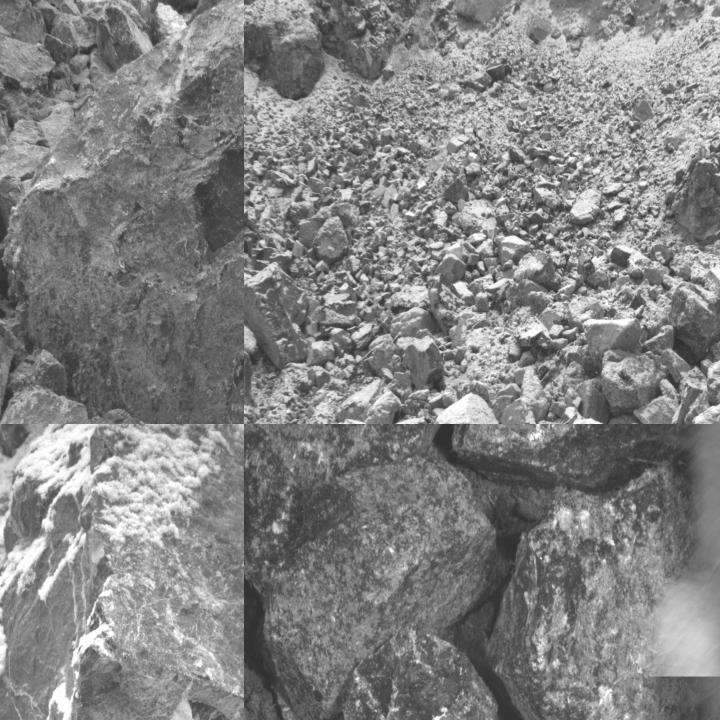stone: (15, 0, 243, 423), (244, 424, 520, 719), (0, 424, 243, 719), (490, 470, 711, 719), (342, 626, 543, 719), (453, 424, 714, 489), (244, 262, 309, 365), (94, 0, 148, 75), (602, 348, 662, 413), (670, 284, 719, 360), (581, 318, 644, 374), (0, 32, 55, 96), (0, 389, 98, 423), (338, 379, 402, 423), (399, 335, 443, 389), (0, 307, 20, 423), (432, 391, 499, 423), (512, 248, 562, 290), (0, 0, 48, 40), (638, 379, 679, 423), (313, 214, 349, 263), (52, 12, 93, 52), (149, 1, 186, 38), (390, 307, 434, 338), (498, 233, 532, 268), (571, 186, 602, 223), (244, 335, 255, 409), (705, 360, 719, 406), (691, 400, 719, 423), (704, 257, 719, 299), (244, 321, 259, 354), (173, 0, 209, 10)
